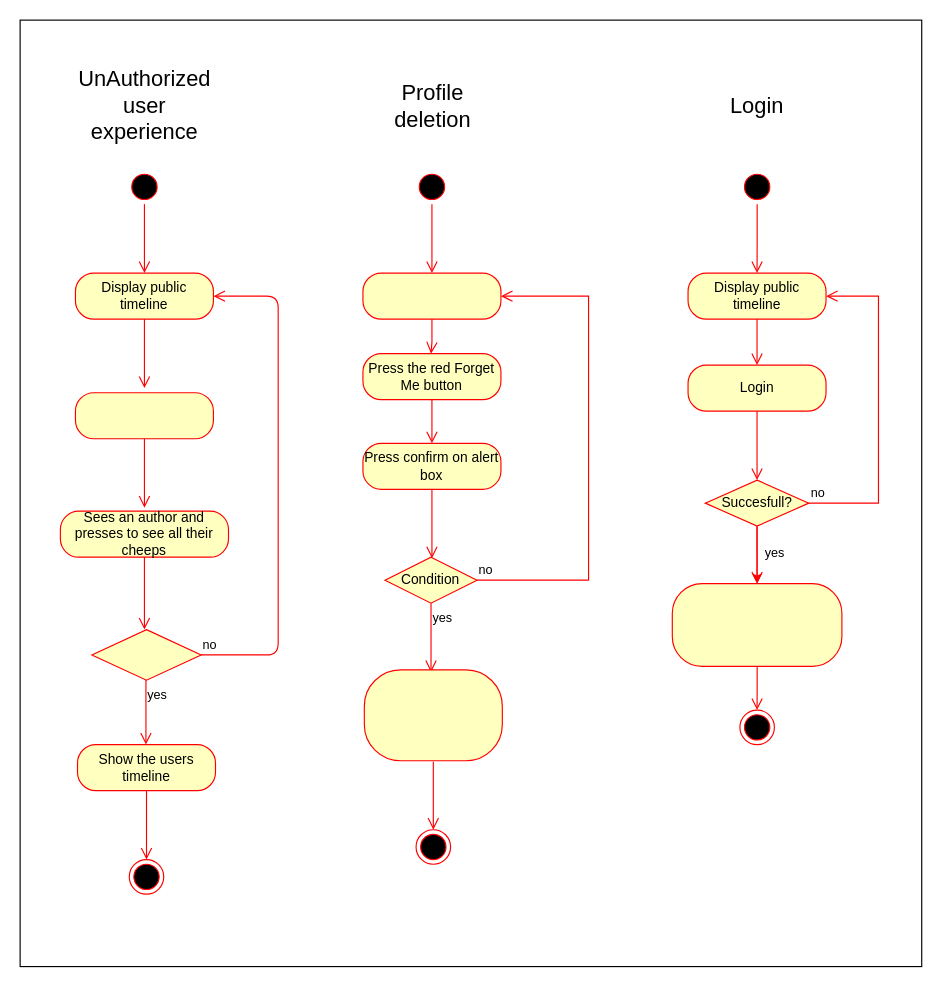
This 942x987 diagram has some shape labels left out. Each missing label, with the centre of its shape:
"Display public timeline Navigation bar changes to be logged out" belongs at [432,715].
"Display userpage" belongs at [431,295].
"Navigationbar changes. CheepBox appear. Cheeps get a follow/unfollow button." belongs at [756,624].
"See all cheeps" belongs at [143,415].
"Successfull?" belongs at [146,654].
